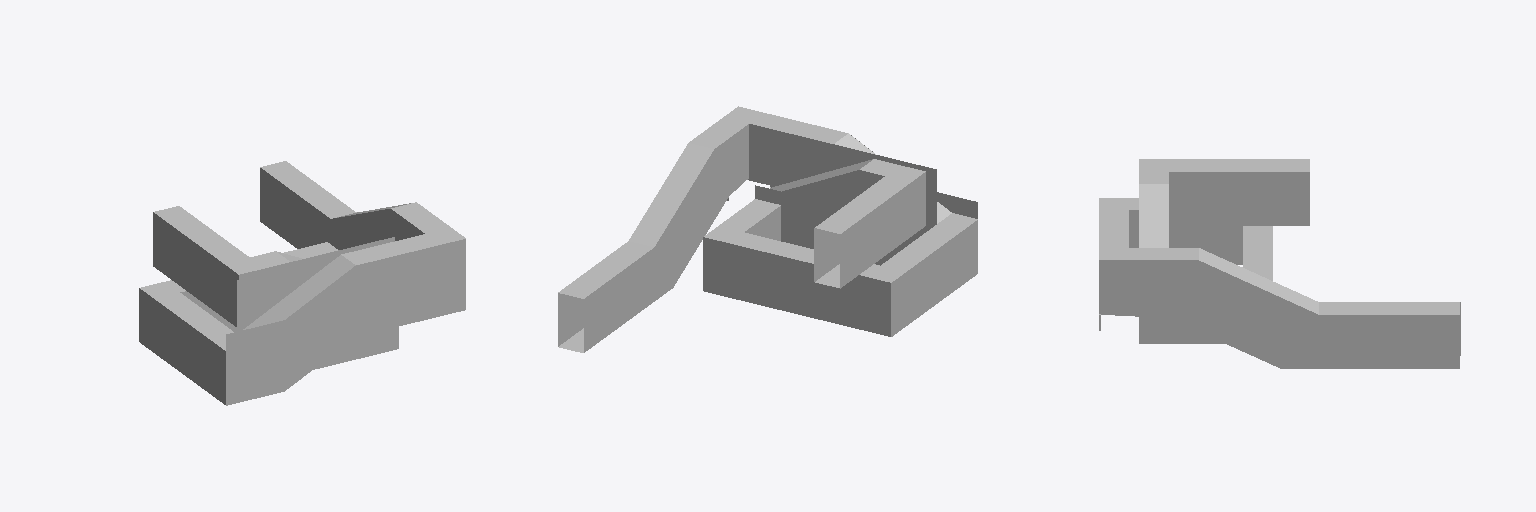
Rendered from floor_new_updown.obj.
3 views of the same model, side by side, from view 1: azimuth 30°, elevation 25°; view 2: azimuth 150°, elevation 25°; view 3: azimuth 270°, elevation 25° (orthographic).
Size of the model in its own units: 925 by 401 by 1205.